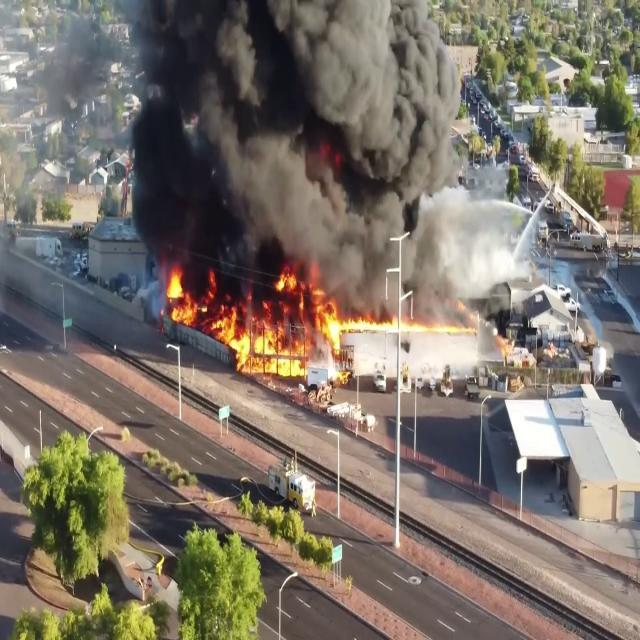Fire: (164, 271, 348, 409), (325, 313, 477, 340)
Smoke: (119, 0, 508, 287)
